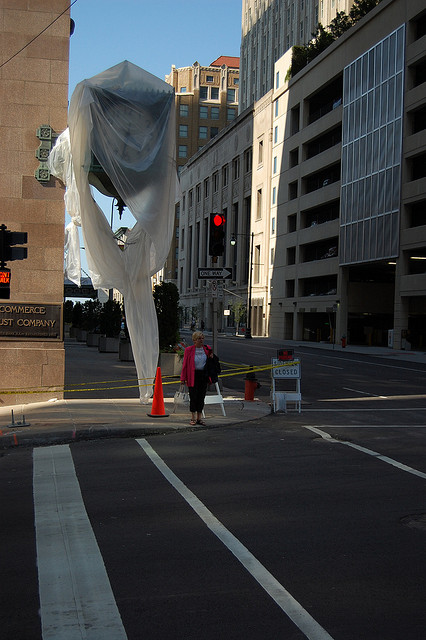Person: (184, 328, 219, 428)
Traffic Light: (206, 208, 228, 264)
